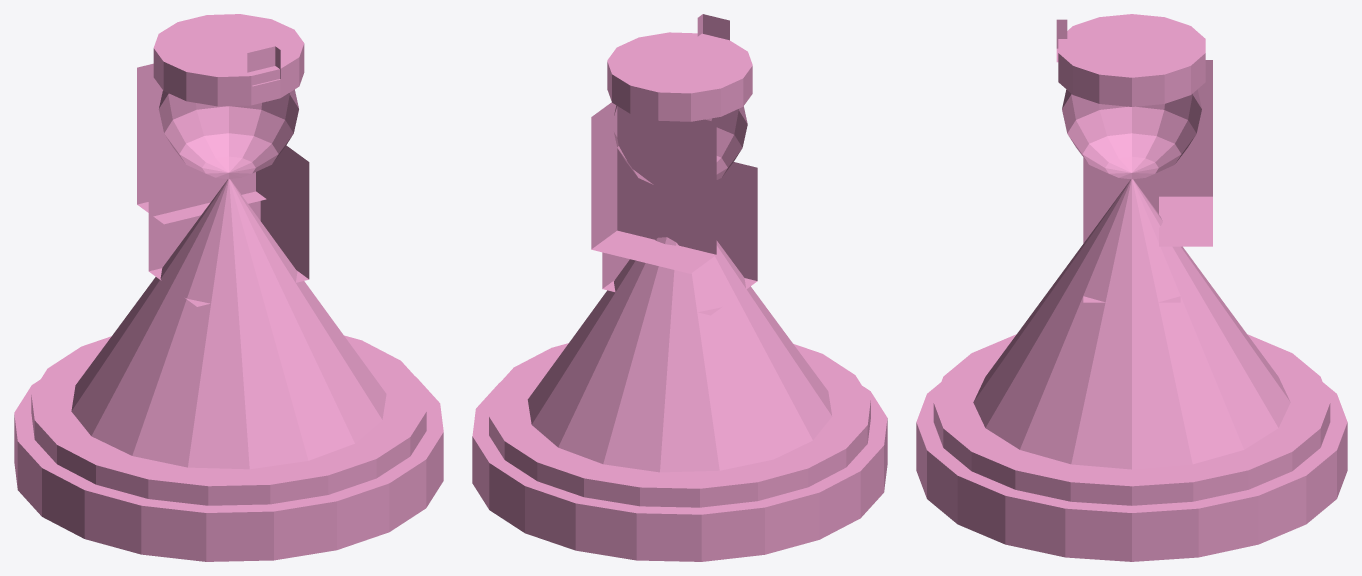
The model's file is character_princess_pawn.glb.
3 renders of one model, left to right at view 1: azimuth 30°, elevation 25°; view 2: azimuth 150°, elevation 25°; view 3: azimuth 270°, elevation 25°, orthographic. The views are drawn at different scales.
Parts seen in each view (by area): view 1: PrincessPawn_Node; view 2: PrincessPawn_Node; view 3: PrincessPawn_Node.
Part boxes in pixels (x1,y1,x2,y2): PrincessPawn_Node: (14,14,443,561); PrincessPawn_Node: (472,14,887,561); PrincessPawn_Node: (916,14,1347,561).
Size of the model in its own units: 0.8 by 0.91 by 0.8.
